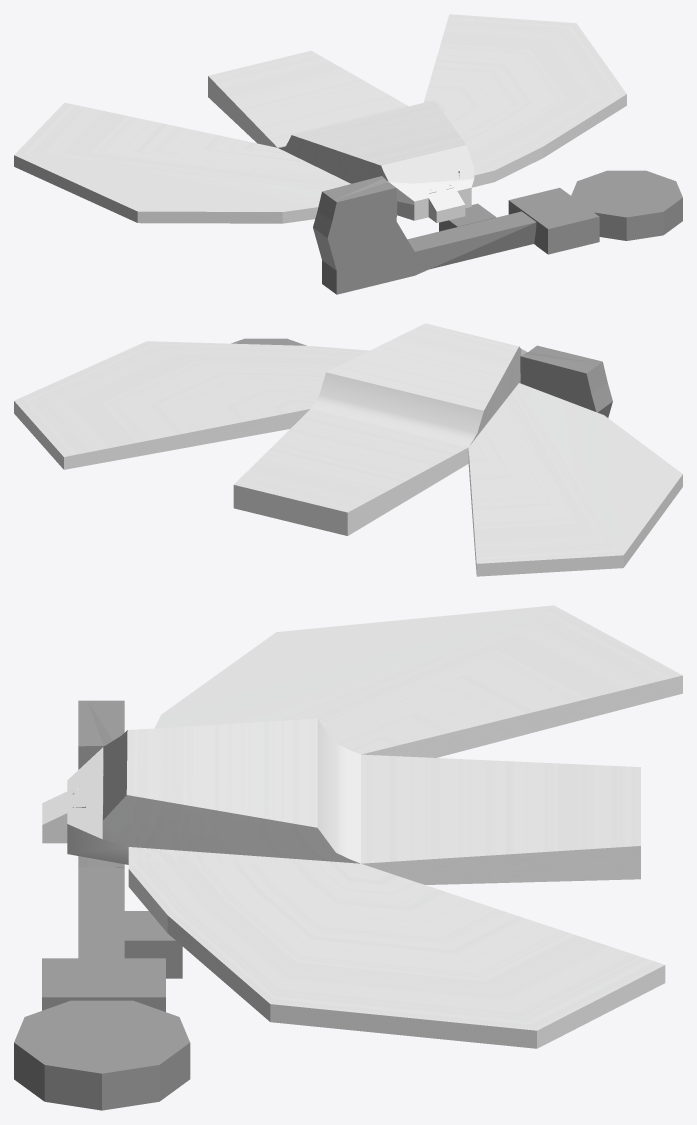
File: edited_map.fbx
3 renders of one model, top to bottom at view 1: azimuth 30°, elevation 25°; view 2: azimuth 150°, elevation 25°; view 3: azimuth 270°, elevation 25°, orthographic. The views are drawn at different scales.
Parts seen in each view (by area): view 1: scaletesting:polySurface1, scaletesting:pCube14, scaletesting:polySurface6, pCube7; view 2: scaletesting:polySurface1, scaletesting:pCube14, scaletesting:polySurface6; view 3: scaletesting:polySurface1, scaletesting:polySurface6, scaletesting:pCube14, pCube7.
Boxes of the visible parts, x1=… form: scaletesting:polySurface1: x1=14, y1=14, x2=626, y2=223; scaletesting:pCube14: x1=313, y1=176, x2=536, y2=294; scaletesting:polySurface6: x1=508, y1=170, x2=682, y2=254; pCube7: x1=439, y1=203, x2=496, y2=231; scaletesting:polySurface1: x1=14, y1=323, x2=682, y2=576; scaletesting:pCube14: x1=520, y1=345, x2=612, y2=417; scaletesting:polySurface6: x1=231, y1=338, x2=306, y2=345; scaletesting:polySurface1: x1=42, y1=605, x2=682, y2=1048; scaletesting:polySurface6: x1=14, y1=958, x2=190, y2=1110; scaletesting:pCube14: x1=78, y1=700, x2=124, y2=958; pCube7: x1=124, y1=911, x2=182, y2=978.
Bounding box in the file's own units: 128 × 22.62 × 84.89.
5 materials, 3 textured.
